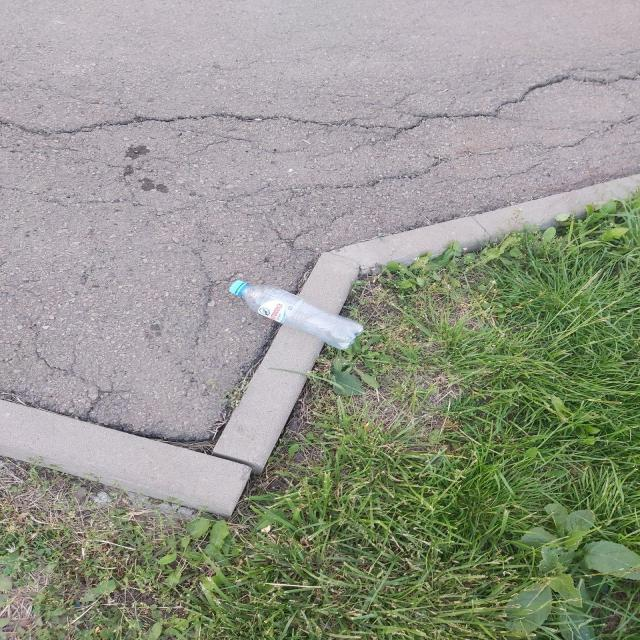empty: (229, 280, 363, 348)
